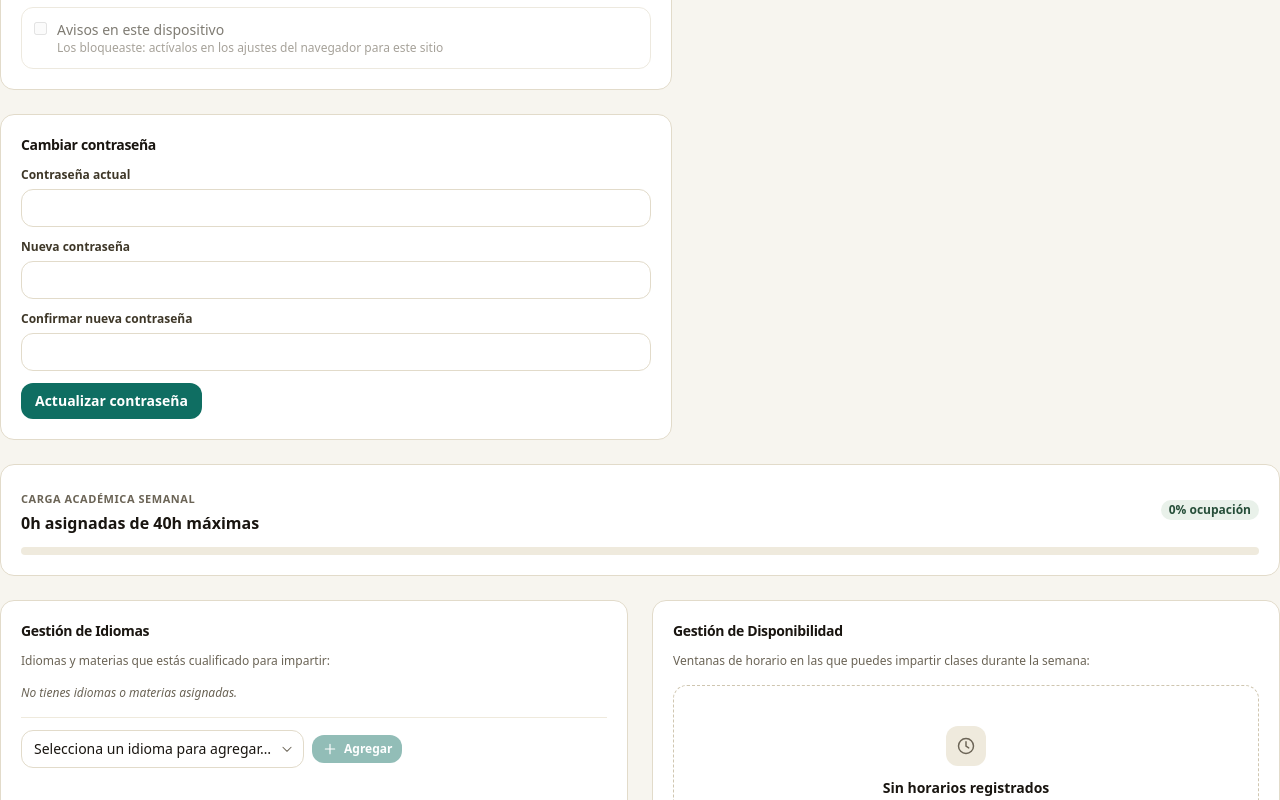
Test case: ProfilePanel › requires the current password before changing it
(page scrolled)
Click the button "Actualizar contraseña".
click(112, 400)  # box [21, 382, 202, 418]
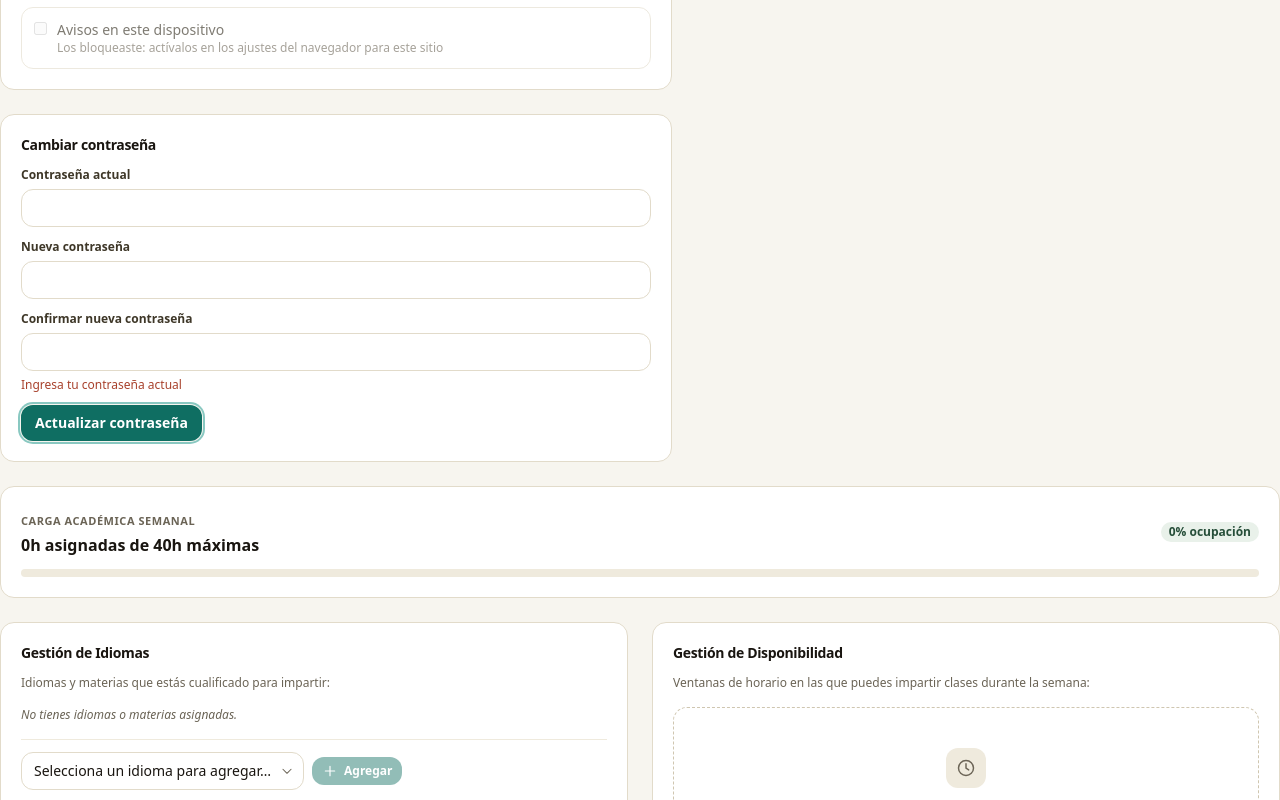
expect the text "Ingresa tu contraseña actual" is shown: met, box [21, 376, 182, 392]
